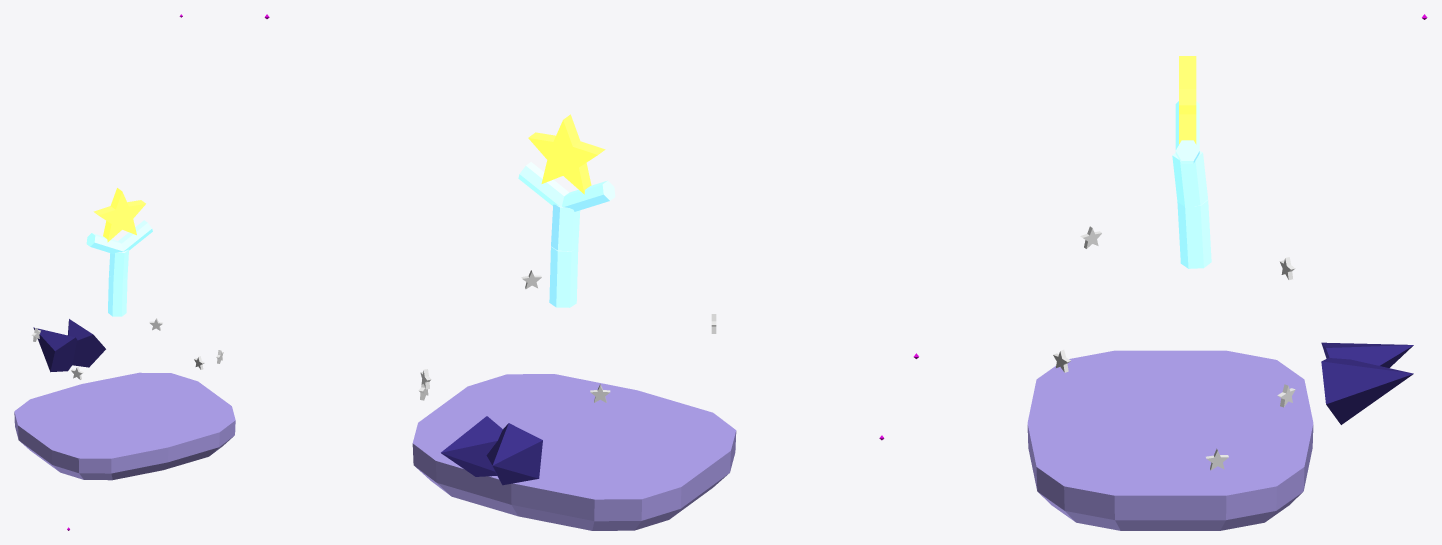
File: acc_star_spout.fbx
3 renders of one model, left to right at view 1: azimuth 30°, elevation 25°; view 2: azimuth 150°, elevation 25°; view 3: azimuth 270°, elevation 25°, orthographic. The views are drawn at different scales.
Visible parts, largest first — view 1: Belly, Body, Spout, Star, Specks; view 2: Belly, Spout, Body, Star, Specks; view 3: Belly, Body, Spout, Star, Specks.
Boxes of the visible parts, bbox=[...] form: Belly: bbox=[14, 372, 235, 480]; Body: bbox=[33, 319, 105, 372]; Spout: bbox=[86, 220, 152, 316]; Star: bbox=[93, 188, 145, 242]; Specks: bbox=[32, 318, 223, 379]; Belly: bbox=[412, 374, 736, 530]; Spout: bbox=[518, 162, 615, 307]; Body: bbox=[441, 416, 542, 485]; Star: bbox=[528, 114, 605, 194]; Specks: bbox=[418, 270, 716, 402]; Belly: bbox=[1027, 350, 1313, 530]; Body: bbox=[1321, 342, 1413, 424]; Spout: bbox=[1172, 101, 1211, 268]; Star: bbox=[1179, 56, 1196, 144]; Specks: bbox=[1053, 226, 1295, 470].
Size of the model in its own units: 2.99 by 3.6 by 2.99.
